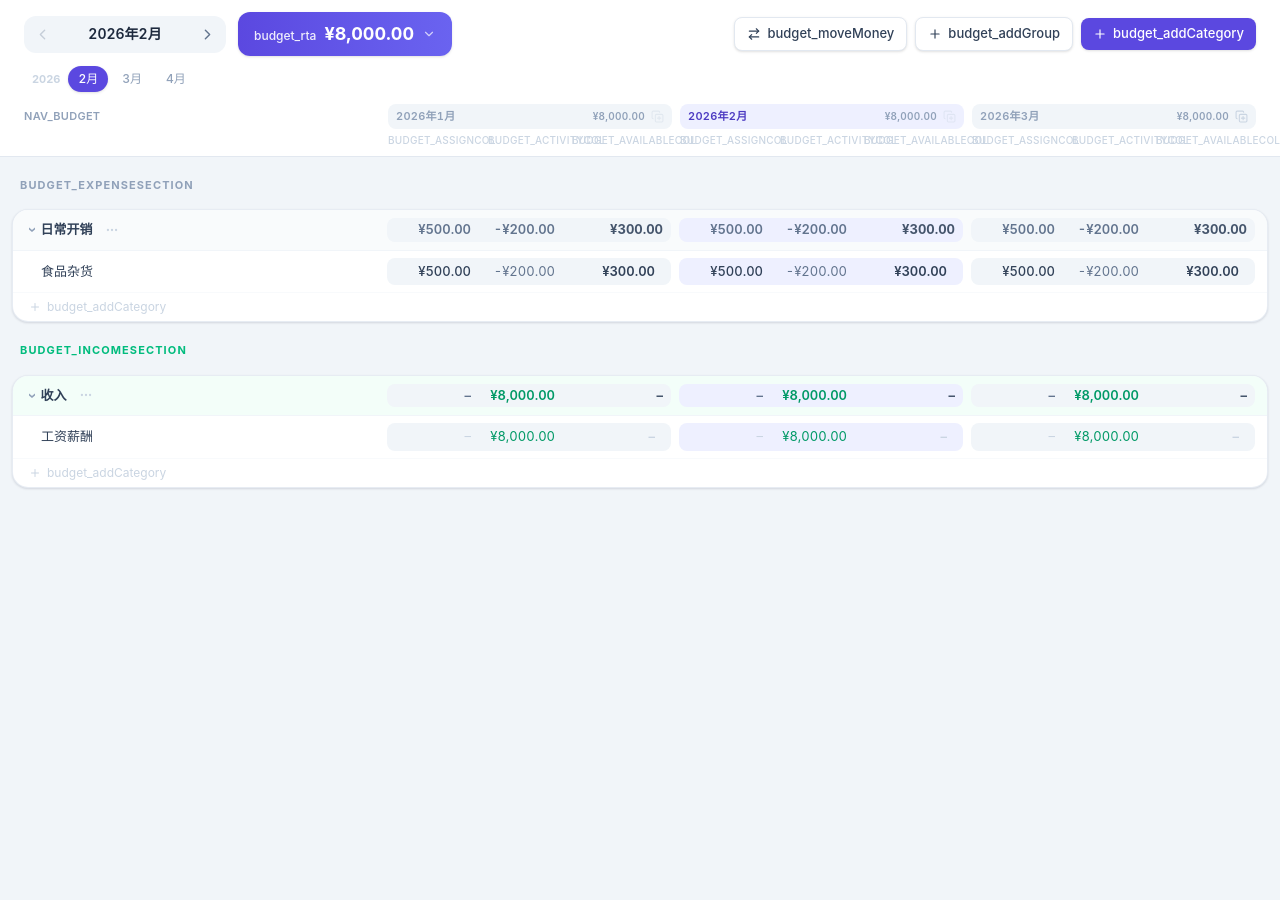
Test: BudgetPage 收入分区 › 点击收入分类打开的检查面板不显示快速分配与目标编辑
Step 1. Click the text "工资薪酬" → point(67, 436), box left=41, top=428, right=93, bottom=444
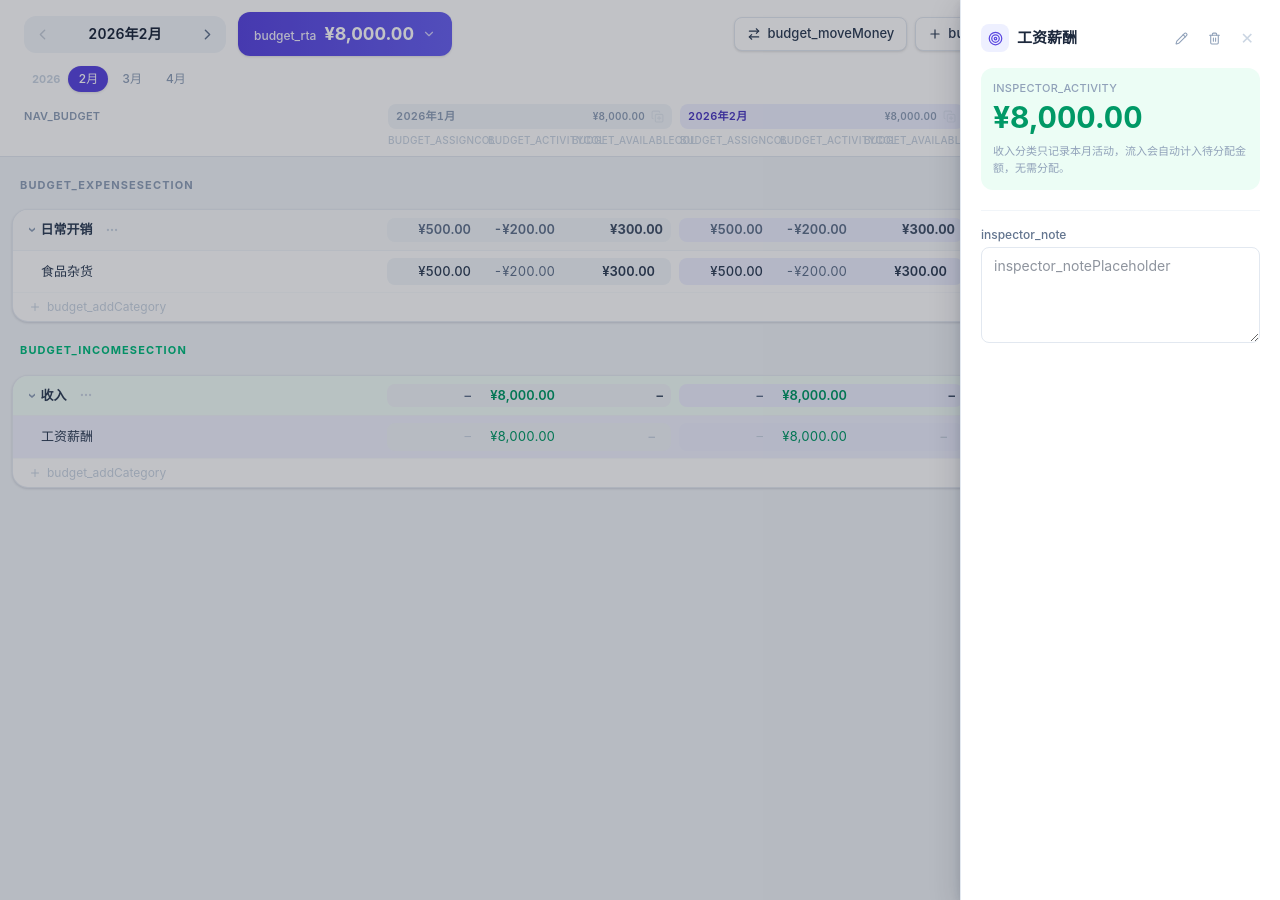
Result: the dialog shows "工资薪酬" at left=1017, top=28, right=1077, bottom=47
Result: the text "inspector_activity" is shown at left=993, top=81, right=1117, bottom=95
